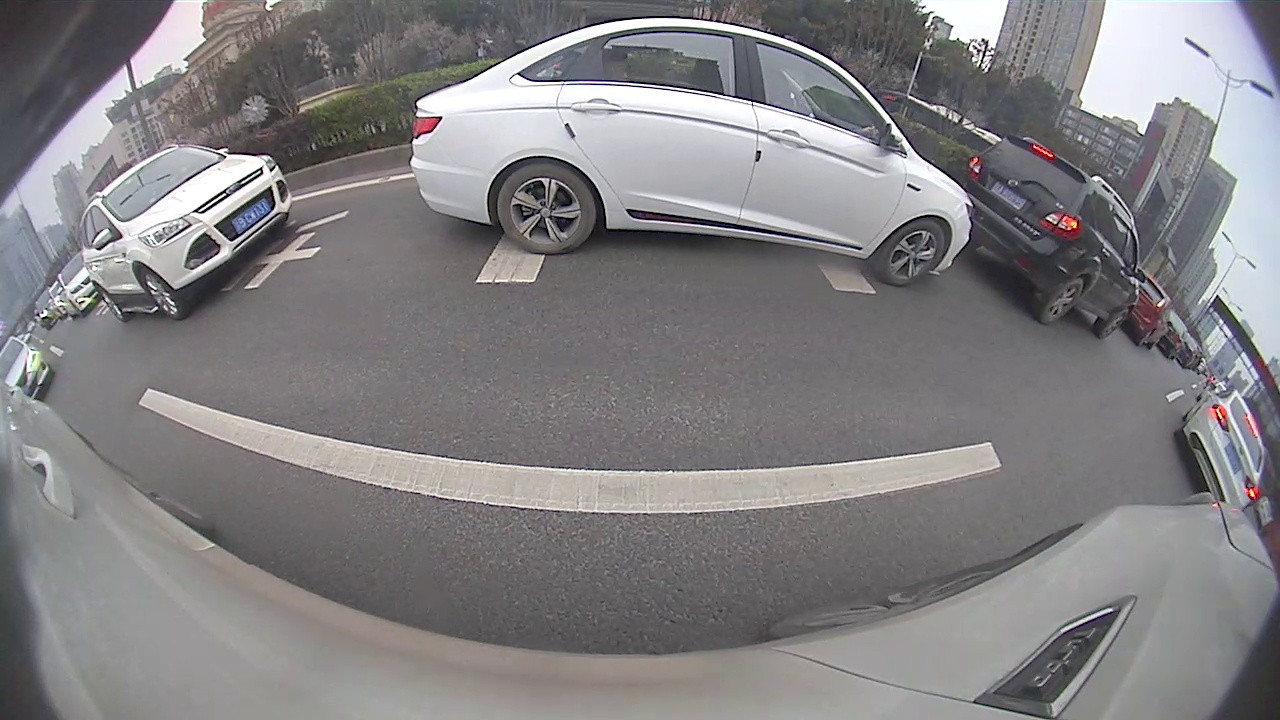car: (411, 16, 977, 288), (77, 141, 294, 323), (963, 133, 1147, 338), (1176, 388, 1264, 513), (1126, 271, 1173, 351), (1, 336, 54, 401), (55, 252, 102, 319)
front: (879, 219, 946, 287), (140, 265, 190, 321), (1097, 306, 1129, 337)
rear: (496, 158, 598, 257), (1035, 278, 1085, 323), (94, 284, 126, 321)
